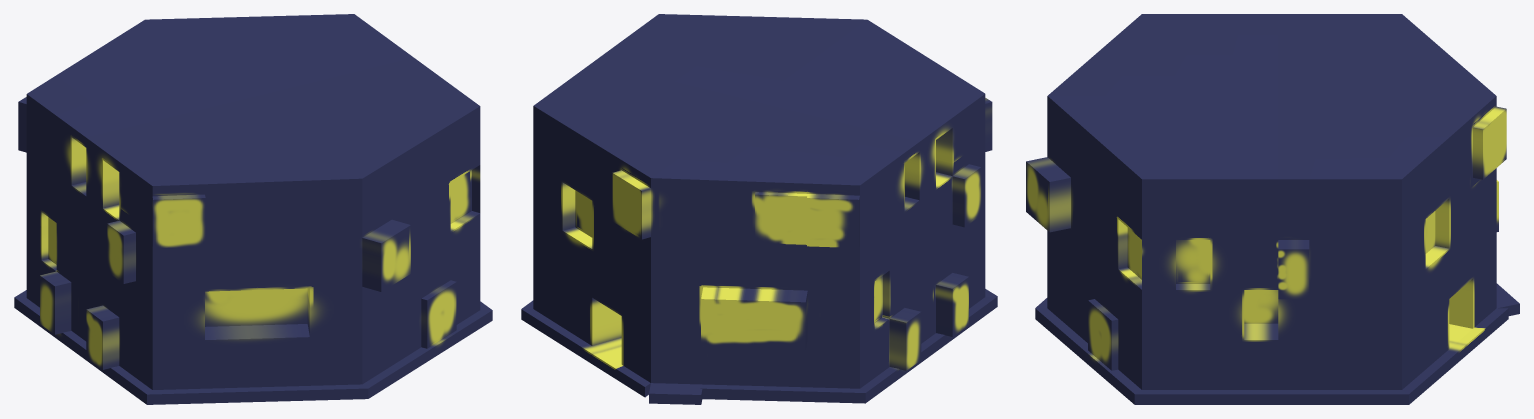
The model's file is tiles_ville.gltf.
3 renders of one model, left to right at view 1: azimuth 30°, elevation 25°; view 2: azimuth 150°, elevation 25°; view 3: azimuth 270°, elevation 25°, orthographic. The views are drawn at different scales.
Parts seen in each view (by area): view 1: ville; view 2: ville; view 3: ville.
Part boxes in pixels (left/top/right/bottom): ville: left=14, top=14, right=492, bottom=404; ville: left=521, top=14, right=997, bottom=404; ville: left=1026, top=14, right=1519, bottom=404.
Bounding box in the file's own units: 1.77 × 1.01 × 2.02.
1 material, 1 textured.
